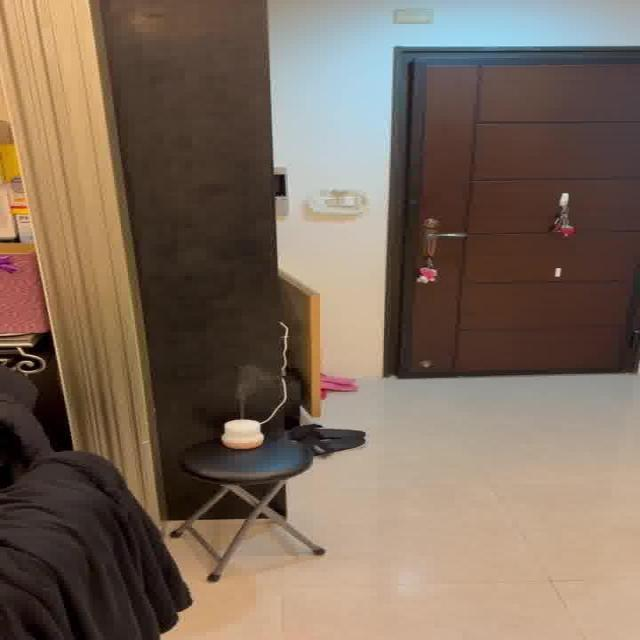fire: (225, 360, 272, 405)
